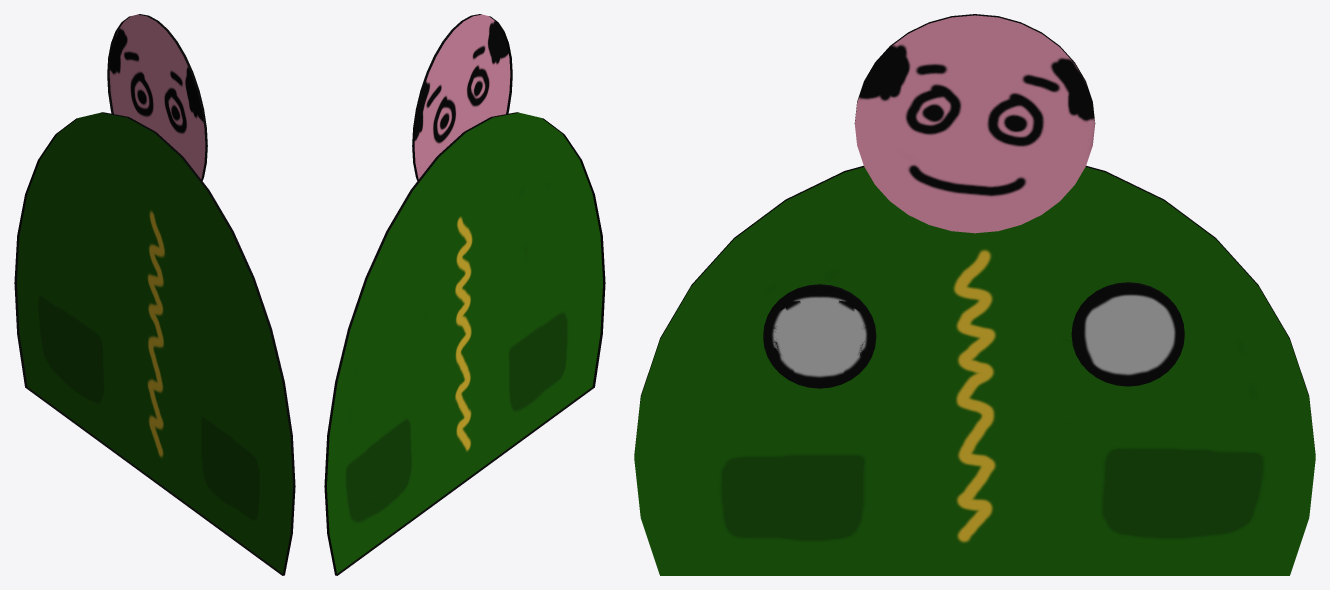
File: BaseModelTestTextured01.fbx
The picture shows the model from 3 angles, left to right: view 1: azimuth 30°, elevation 25°; view 2: azimuth 150°, elevation 25°; view 3: azimuth 270°, elevation 25°; orthographic projection. The views are drawn at different scales.
Visible parts, largest first — view 1: Body, Head; view 2: Body, Head; view 3: Body, Head, Hand1, Hand2.
Part boxes in pixels (box(x1,y1,x2,y2)): Body: box(14, 112, 295, 575); Head: box(107, 14, 207, 180); Body: box(324, 112, 605, 575); Head: box(412, 14, 512, 180); Body: box(634, 165, 1315, 575); Head: box(854, 14, 1095, 233); Hand1: box(1071, 282, 1184, 386); Hand2: box(763, 284, 876, 388).
Size of the model in its own units: 2.99 by 182 by 200.
Materials: 3 (3 with a texture image).
